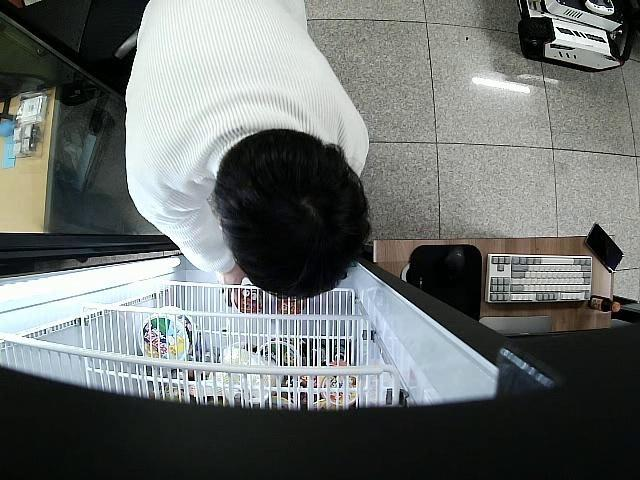06_nuguri_S: (235, 284, 263, 313)
